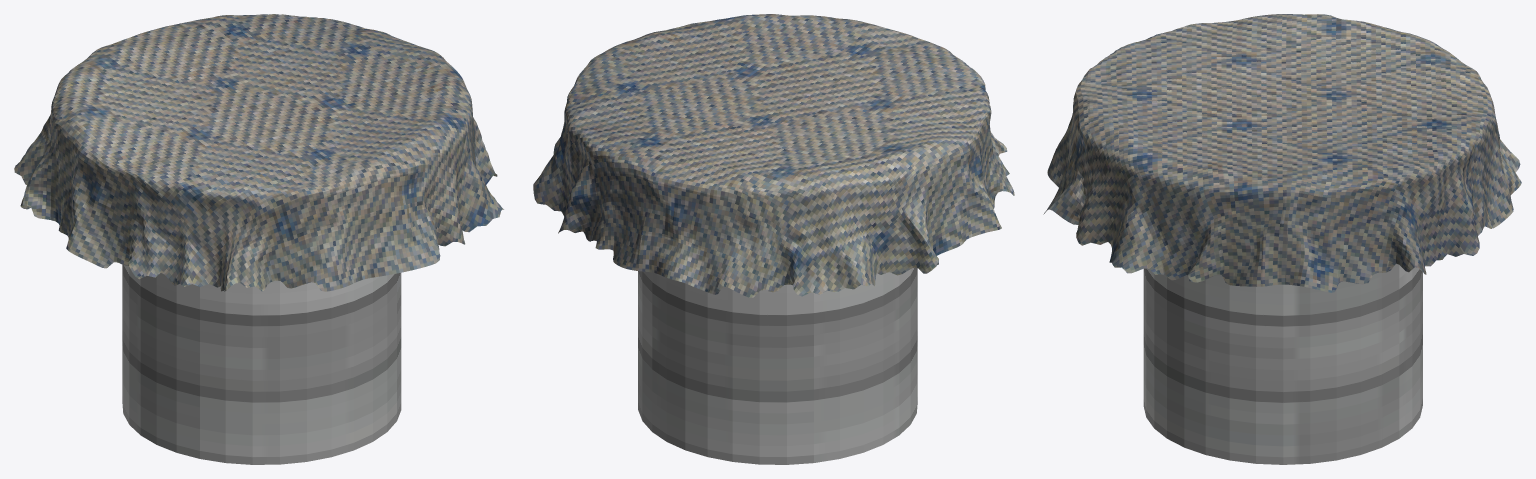
The model's file is PF arena .fbx.
The picture shows the model from 3 angles, left to right: view 1: azimuth 30°, elevation 25°; view 2: azimuth 150°, elevation 25°; view 3: azimuth 270°, elevation 25°; orthographic projection.
Visible parts, largest first — view 1: Plane, Cylinder; view 2: Plane, Cylinder; view 3: Plane, Cylinder.
Part boxes in pixels (box(x1,y1,x2,y2)): Plane: box(14, 14, 503, 291); Cylinder: box(122, 264, 401, 464); Plane: box(533, 14, 1014, 297); Cylinder: box(638, 267, 917, 464); Plane: box(1043, 14, 1521, 292); Cylinder: box(1143, 263, 1422, 464).
Size of the model in its own units: 721 by 515 by 717.
